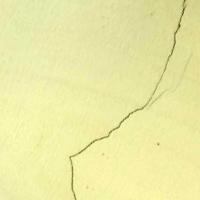crack: (63, 1, 193, 199)
